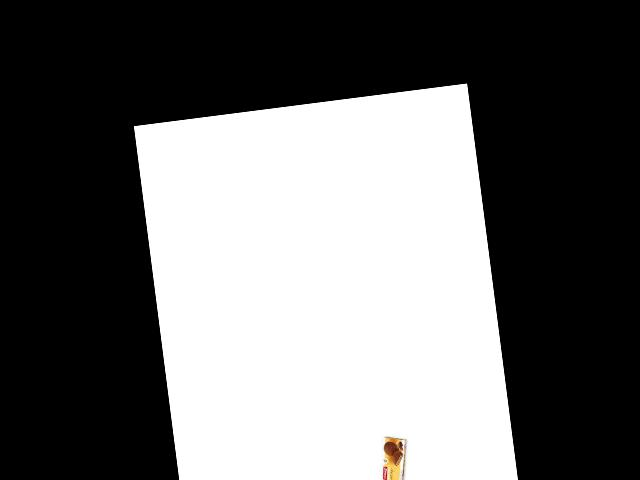chocolate: (376, 431, 408, 480)
